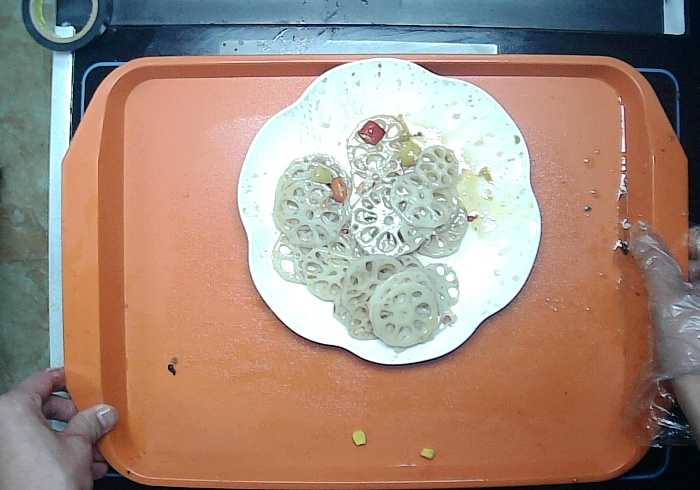HZYJPL-Bai_Se_Hua_Duo_Wan: (234, 56, 543, 366)
